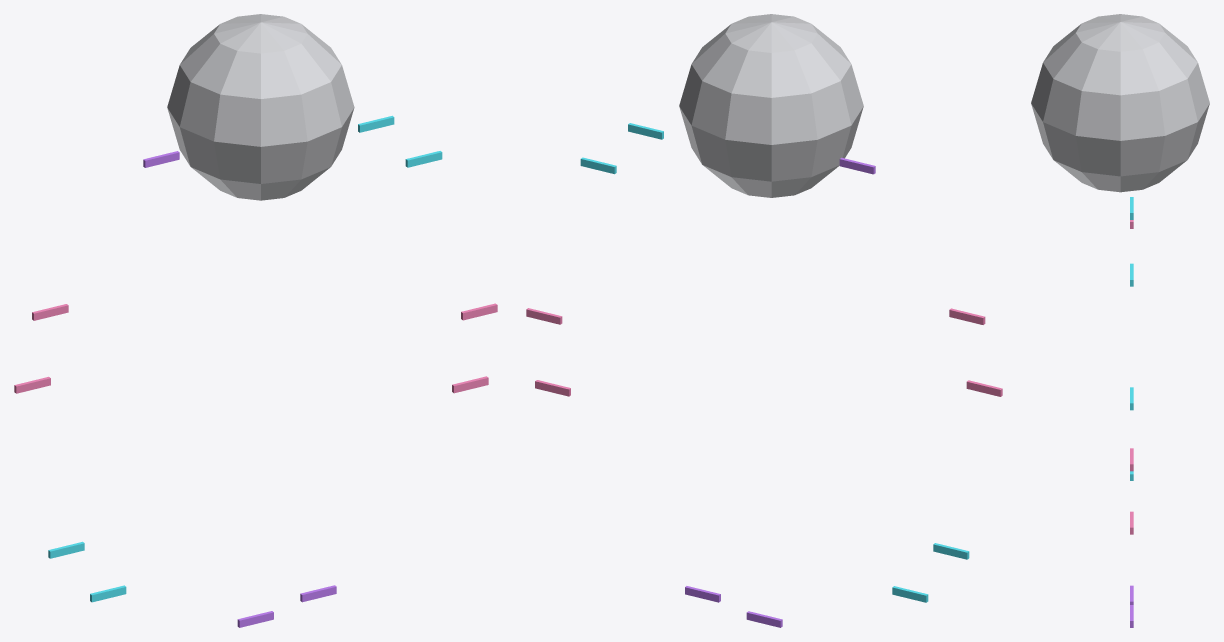
The model's file is disco-king.glb.
3 renders of one model, left to right at view 1: azimuth 30°, elevation 25°; view 2: azimuth 150°, elevation 25°; view 3: azimuth 270°, elevation 25°, orthographic. The views are drawn at different scales.
Parts seen in each view (by area): view 1: mirror ball; view 2: mirror ball; view 3: mirror ball.
Boxes of the visible parts, x1,y1,x2,y2 form: mirror ball: (167, 14, 354, 200); mirror ball: (679, 14, 863, 197); mirror ball: (1031, 14, 1209, 192).
Size of the model in its own units: 2.79 by 3.35 by 0.94.
